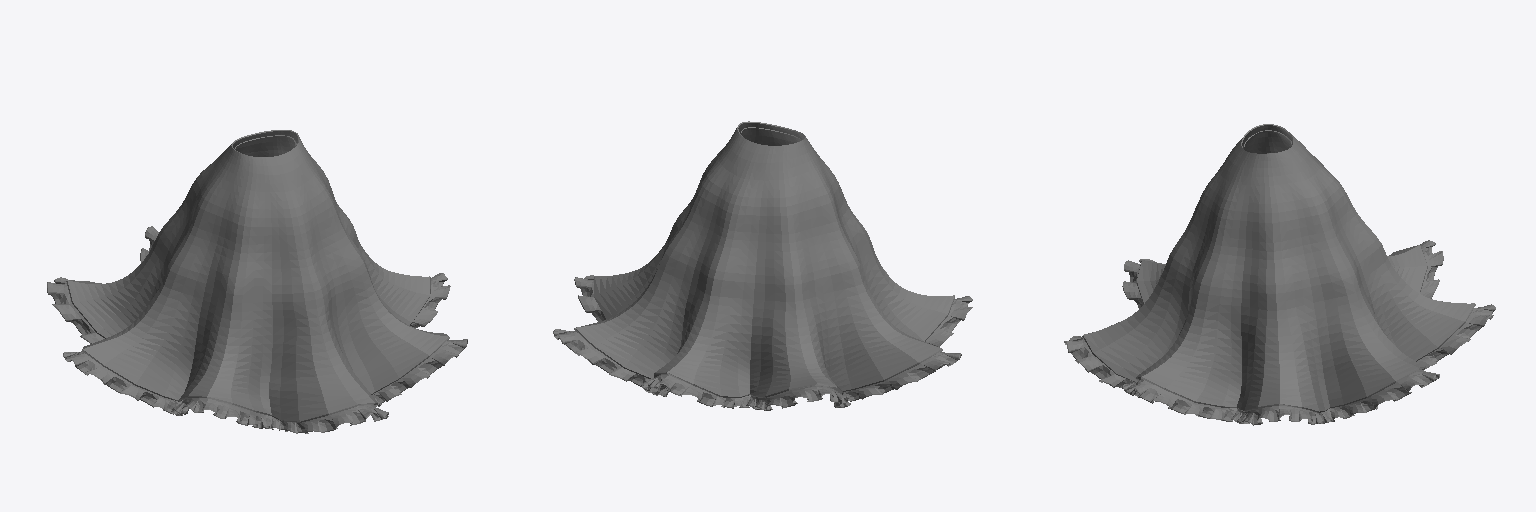
Rendered from dress.obj.
3 renders of one model, left to right at view 1: azimuth 30°, elevation 25°; view 2: azimuth 150°, elevation 25°; view 3: azimuth 270°, elevation 25°, orthographic.
Parts seen in each view (by area): view 1: スカート_Remilia_Scarlet_mesh_Remilia_Scarlet.001, スカート内_Remilia_Scarlet_mesh_Remilia_Scarlet.020, スカートライン_Remilia_Scarlet_mesh_Remilia_Scarlet.002; view 2: スカート_Remilia_Scarlet_mesh_Remilia_Scarlet.001, スカート内_Remilia_Scarlet_mesh_Remilia_Scarlet.020, スカートライン_Remilia_Scarlet_mesh_Remilia_Scarlet.002; view 3: スカート_Remilia_Scarlet_mesh_Remilia_Scarlet.001, スカート内_Remilia_Scarlet_mesh_Remilia_Scarlet.020, スカートライン_Remilia_Scarlet_mesh_Remilia_Scarlet.002.
Part boxes in pixels (left/top/right/bottom): スカート_Remilia_Scarlet_mesh_Remilia_Scarlet.001: left=66, top=130, right=449, bottom=422; スカート内_Remilia_Scarlet_mesh_Remilia_Scarlet.020: left=47, top=135, right=467, bottom=433; スカートライン_Remilia_Scarlet_mesh_Remilia_Scarlet.002: left=74, top=276, right=440, bottom=413; スカート_Remilia_Scarlet_mesh_Remilia_Scarlet.001: left=574, top=121, right=954, bottom=397; スカート内_Remilia_Scarlet_mesh_Remilia_Scarlet.020: left=553, top=127, right=972, bottom=410; スカートライン_Remilia_Scarlet_mesh_Remilia_Scarlet.002: left=582, top=276, right=947, bottom=391; スカート_Remilia_Scarlet_mesh_Remilia_Scarlet.001: left=1082, top=124, right=1475, bottom=412; スカート内_Remilia_Scarlet_mesh_Remilia_Scarlet.020: left=1064, top=130, right=1495, bottom=425; スカートライン_Remilia_Scarlet_mesh_Remilia_Scarlet.002: left=1090, top=247, right=1467, bottom=403.
Size of the model in its own units: 1.06 by 0.6332 by 1.04.